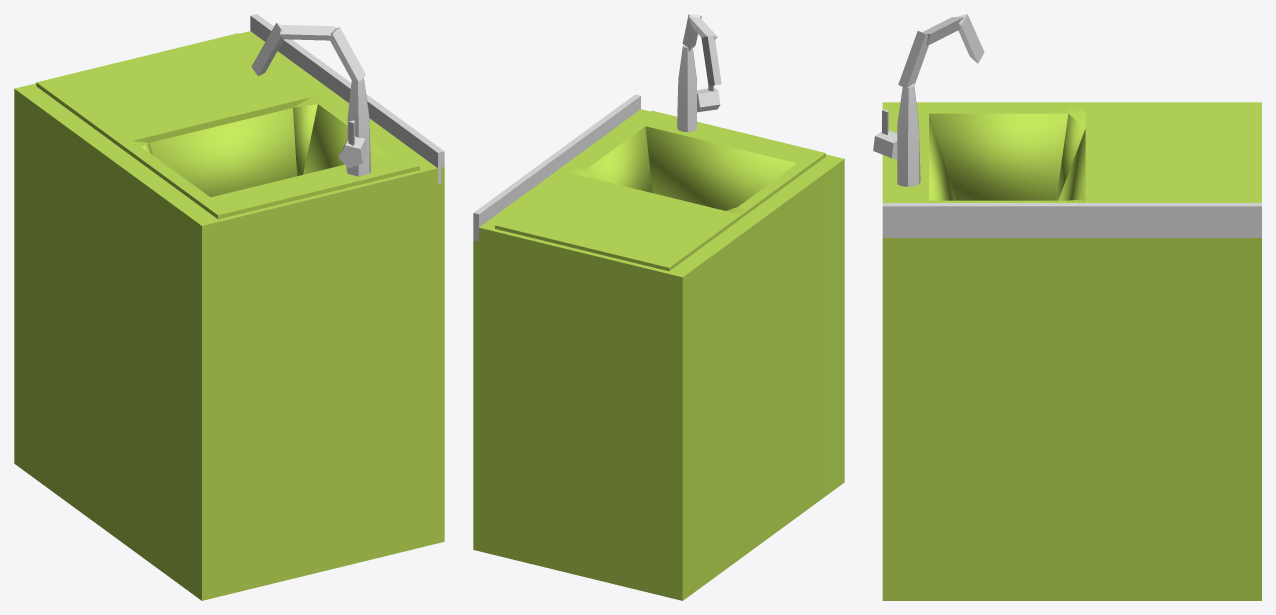
File: table_cook_2_convex.fbx
3 renders of one model, left to right at view 1: azimuth 30°, elevation 25°; view 2: azimuth 150°, elevation 25°; view 3: azimuth 270°, elevation 25°, orthographic. The views are drawn at different scales.
Parts seen in each view (by area): view 1: table_cook_2_convex.003, table_cook_2_convex.004, table_cook_2_convex.002, table_cook_2_convex.005, table_cook_2_convex.013, table_cook_2_convex.006, table_cook_2_convex.008, table_cook_2_convex.011, table_cook_2_convex.018, table_cook_2_convex.019, table_cook_2_convex.015, table_cook_2_convex.023 (+5 smaller); view 2: table_cook_2_convex.004, table_cook_2_convex.002, table_cook_2_convex.005, table_cook_2_convex.016, table_cook_2_convex.003, table_cook_2_convex.008, table_cook_2_convex.006, table_cook_2_convex.011, table_cook_2_convex.018, table_cook_2_convex.019, table_cook_2_convex.021, table_cook_2_convex.001 (+2 smaller); view 3: table_cook_2_convex.004, table_cook_2_convex.001, table_cook_2_convex.003, table_cook_2_convex.005, table_cook_2_convex.008, table_cook_2_convex.012, table_cook_2_convex.018, table_cook_2_convex.006, table_cook_2_convex.016, table_cook_2_convex.013, table_cook_2_convex.019, table_cook_2_convex.017 (+5 smaller).
Boxes of the visible parts, <box> form: table_cook_2_convex.003: <box>179,151,444,600</box>; table_cook_2_convex.004: <box>14,31,336,526</box>; table_cook_2_convex.002: <box>101,148,197,583</box>; table_cook_2_convex.005: <box>36,33,321,147</box>; table_cook_2_convex.013: <box>149,108,296,197</box>; table_cook_2_convex.006: <box>197,151,419,219</box>; table_cook_2_convex.008: <box>250,14,444,184</box>; table_cook_2_convex.011: <box>303,104,386,174</box>; table_cook_2_convex.018: <box>346,77,370,176</box>; table_cook_2_convex.019: <box>129,147,209,203</box>; table_cook_2_convex.015: <box>293,104,317,175</box>; table_cook_2_convex.023: <box>330,27,365,82</box>; table_cook_2_convex.004: <box>473,172,757,600</box>; table_cook_2_convex.002: <box>742,169,824,545</box>; table_cook_2_convex.005: <box>495,172,741,271</box>; table_cook_2_convex.016: <box>645,126,796,210</box>; table_cook_2_convex.003: <box>621,109,844,496</box>; table_cook_2_convex.008: <box>473,94,640,241</box>; table_cook_2_convex.006: <box>634,110,825,168</box>; table_cook_2_convex.011: <box>586,126,652,192</box>; table_cook_2_convex.018: <box>677,44,696,132</box>; table_cook_2_convex.019: <box>738,163,808,212</box>; table_cook_2_convex.021: <box>701,35,721,85</box>; table_cook_2_convex.001: <box>554,124,630,174</box>; table_cook_2_convex.004: <box>1085,102,1261,600</box>; table_cook_2_convex.001: <box>929,238,1085,600</box>; table_cook_2_convex.003: <box>882,102,929,600</box>; table_cook_2_convex.005: <box>1085,107,1255,202</box>; table_cook_2_convex.008: <box>882,203,1261,237</box>; table_cook_2_convex.012: <box>929,113,1068,200</box>; table_cook_2_convex.018: <box>897,83,920,186</box>; table_cook_2_convex.006: <box>888,107,928,202</box>; table_cook_2_convex.016: <box>929,114,955,200</box>; table_cook_2_convex.013: <box>1058,129,1085,200</box>; table_cook_2_convex.019: <box>929,107,1068,113</box>; table_cook_2_convex.017: <box>1056,114,1085,200</box>.
Size of the model in its own units: 17.11 by 23.47 by 35.01.
